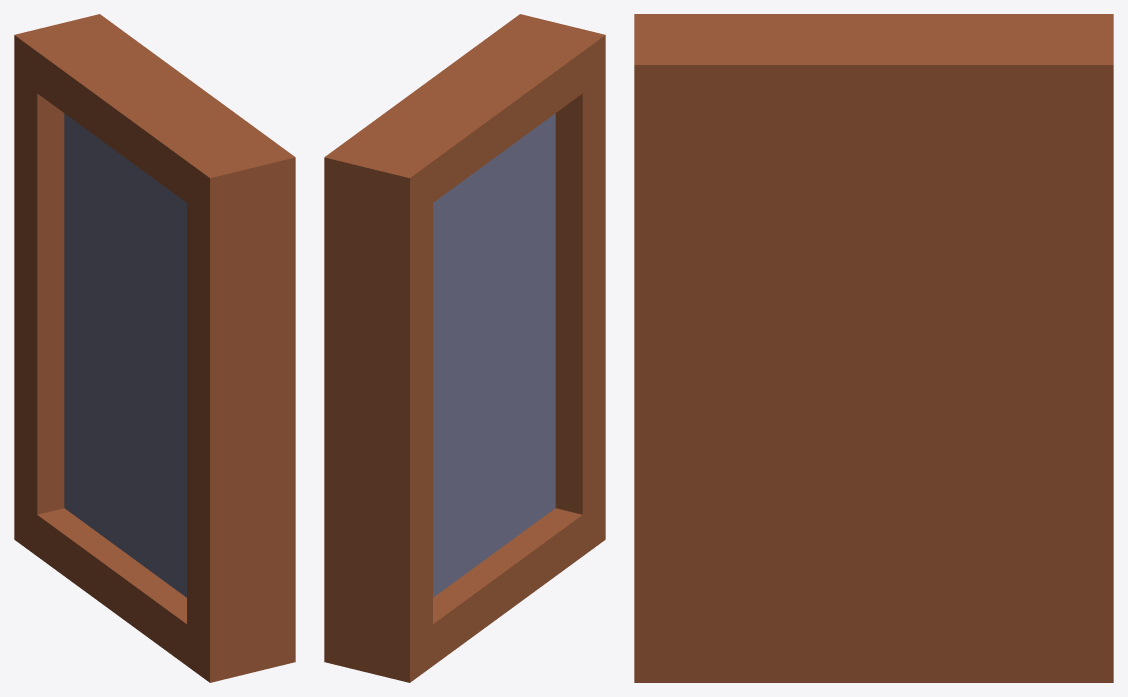
File: painting1.fbx
3 renders of one model, left to right at view 1: azimuth 30°, elevation 25°; view 2: azimuth 150°, elevation 25°; view 3: azimuth 270°, elevation 25°, orthographic. The views are drawn at different scales.
Parts seen in each view (by area): view 1: painting1; view 2: painting1; view 3: painting1.
Part boxes in pixels (x1,y1,x2,y2): painting1: (14, 14, 295, 682); painting1: (324, 14, 605, 682); painting1: (634, 14, 1113, 682).
Bounding box in the file's own units: 14.24 × 80.18 × 56.4.
